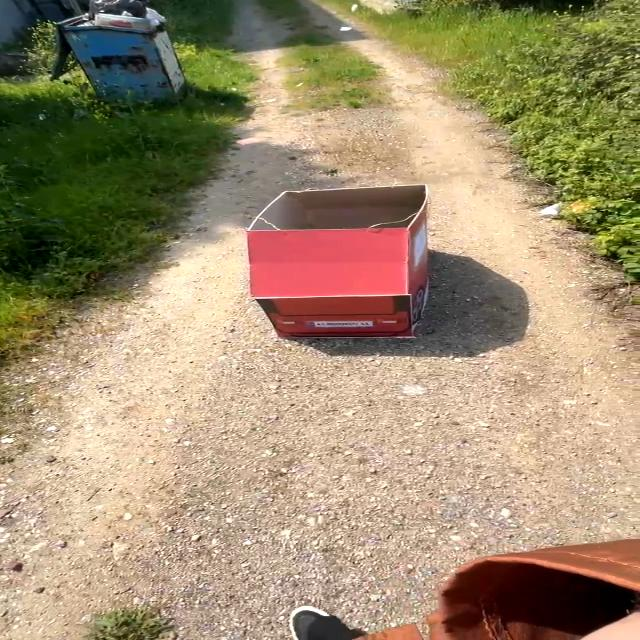red_car: (239, 179, 461, 366)
